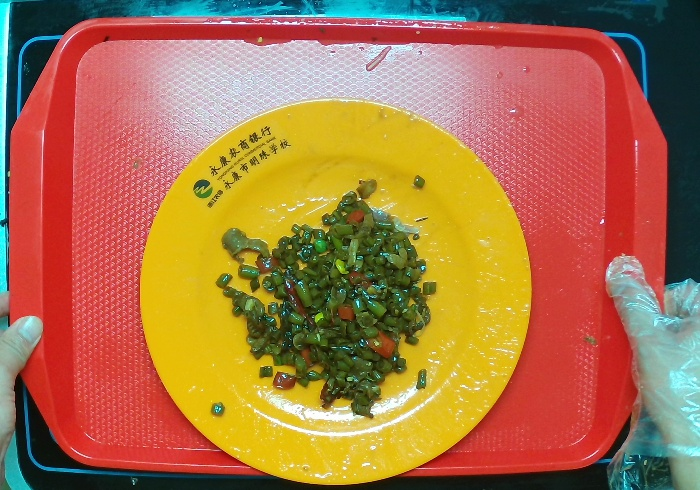YKMZ-Ju_Se_Mian_Pan: (136, 96, 534, 489)
